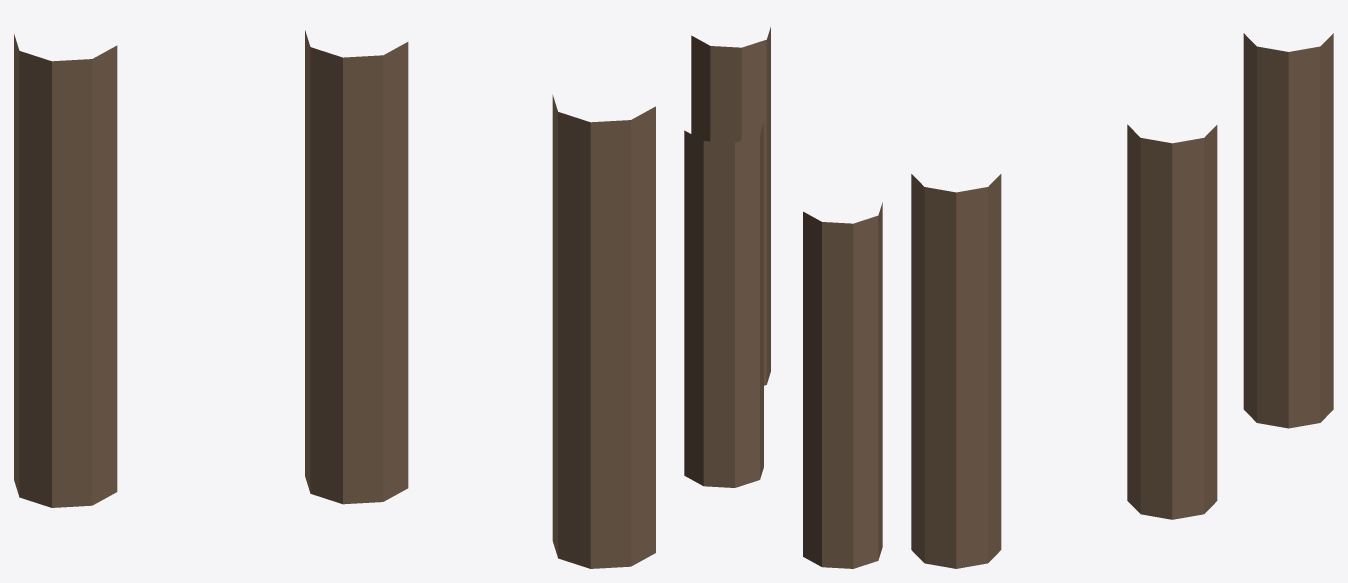
The model's file is Beach_Prop_Docks_Corner_Supports.glb.
The picture shows the model from 3 angles, left to right: view 1: azimuth 30°, elevation 25°; view 2: azimuth 150°, elevation 25°; view 3: azimuth 270°, elevation 25°; orthographic projection. The views are drawn at different scales.
Parts seen in each view (by area): view 1: Beach_Prop_Docks_Corner_Supports; view 2: Beach_Prop_Docks_Corner_Supports; view 3: Beach_Prop_Docks_Corner_Supports.
Part boxes in pixels (box(x1,y1,x2,y2)): Beach_Prop_Docks_Corner_Supports: box(14, 30, 655, 568); Beach_Prop_Docks_Corner_Supports: box(684, 27, 882, 568); Beach_Prop_Docks_Corner_Supports: box(911, 33, 1333, 568).
Bounding box in the file's own units: 1.02 × 1 × 1.02.
